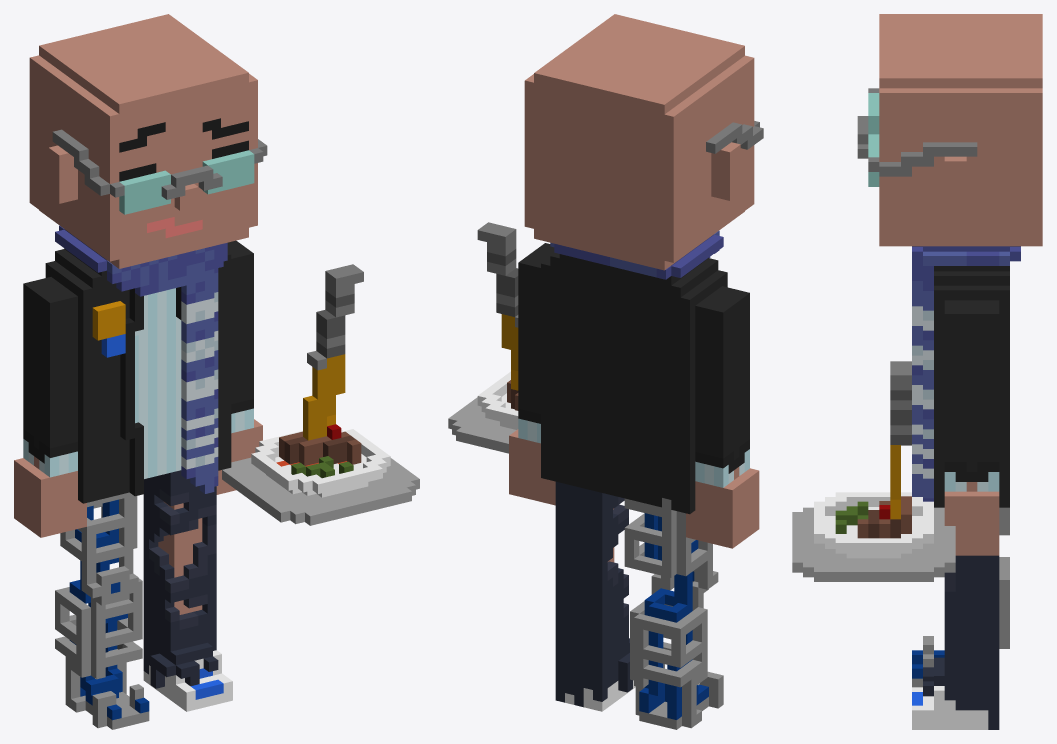
Rendered from Critic.obj.
3 renders of one model, left to right at view 1: azimuth 30°, elevation 25°; view 2: azimuth 150°, elevation 25°; view 3: azimuth 270°, elevation 25°, orthographic.
Size of the model in its own units: 3.4 by 6.6 by 2.3.
